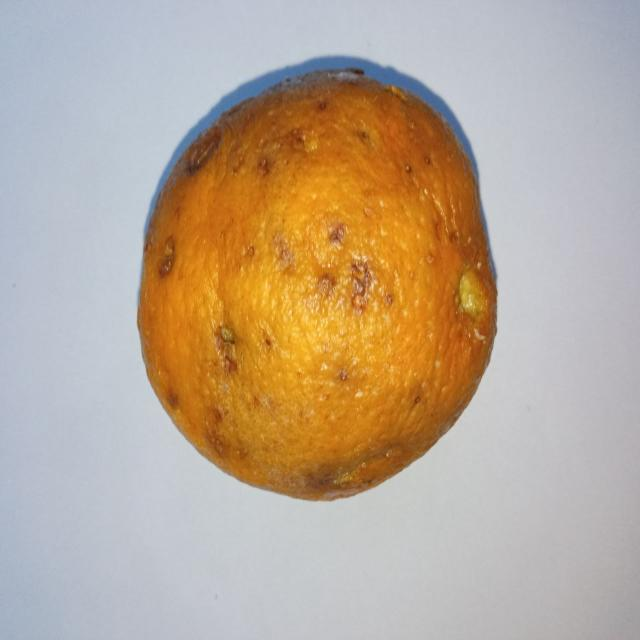rotten_orange: (136, 68, 496, 501)
